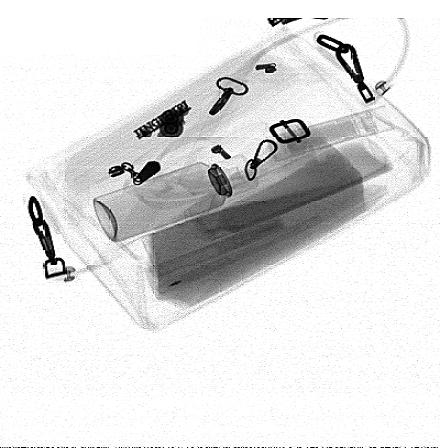Sprayer: (91, 155, 259, 241)
